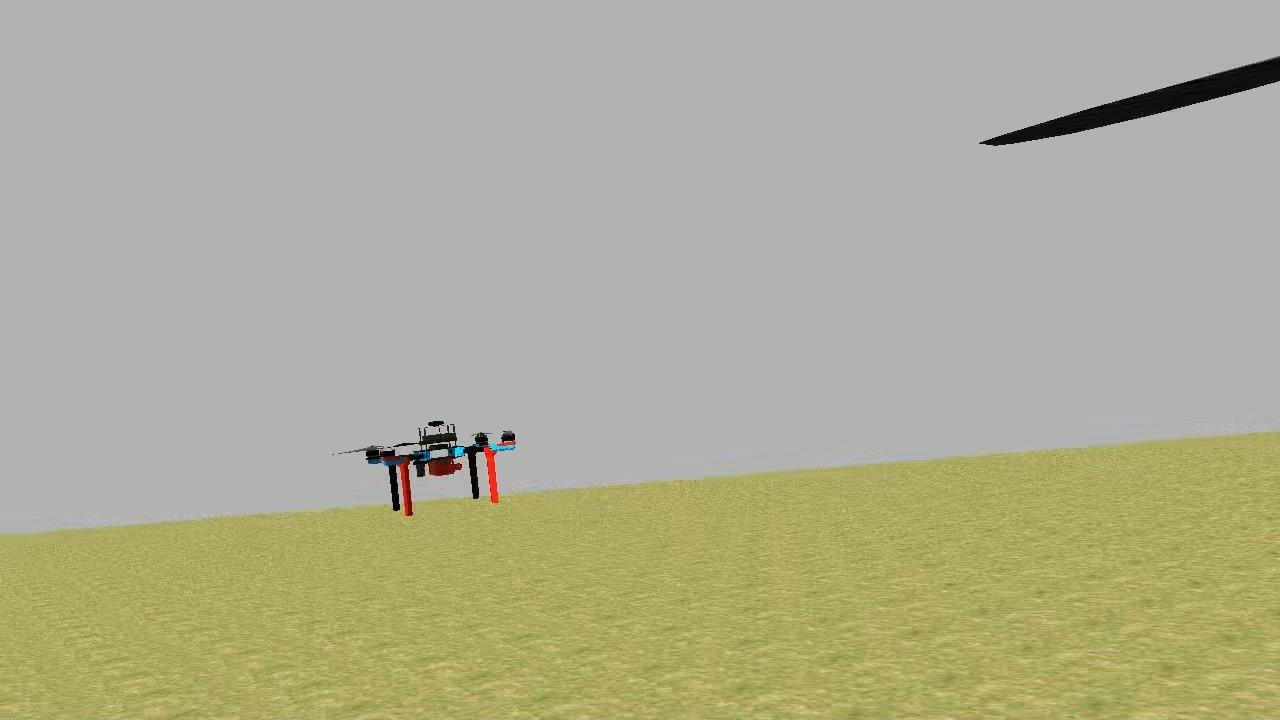UAV: (354, 411, 524, 523)
